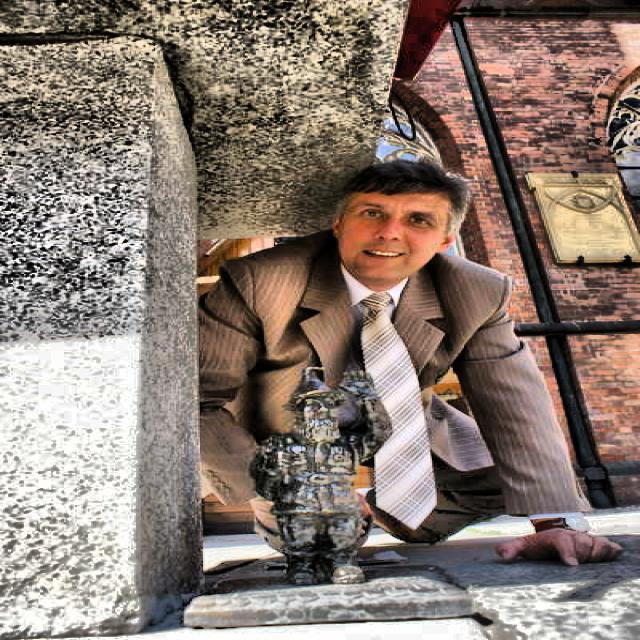Weteran: (252, 367, 392, 585)
